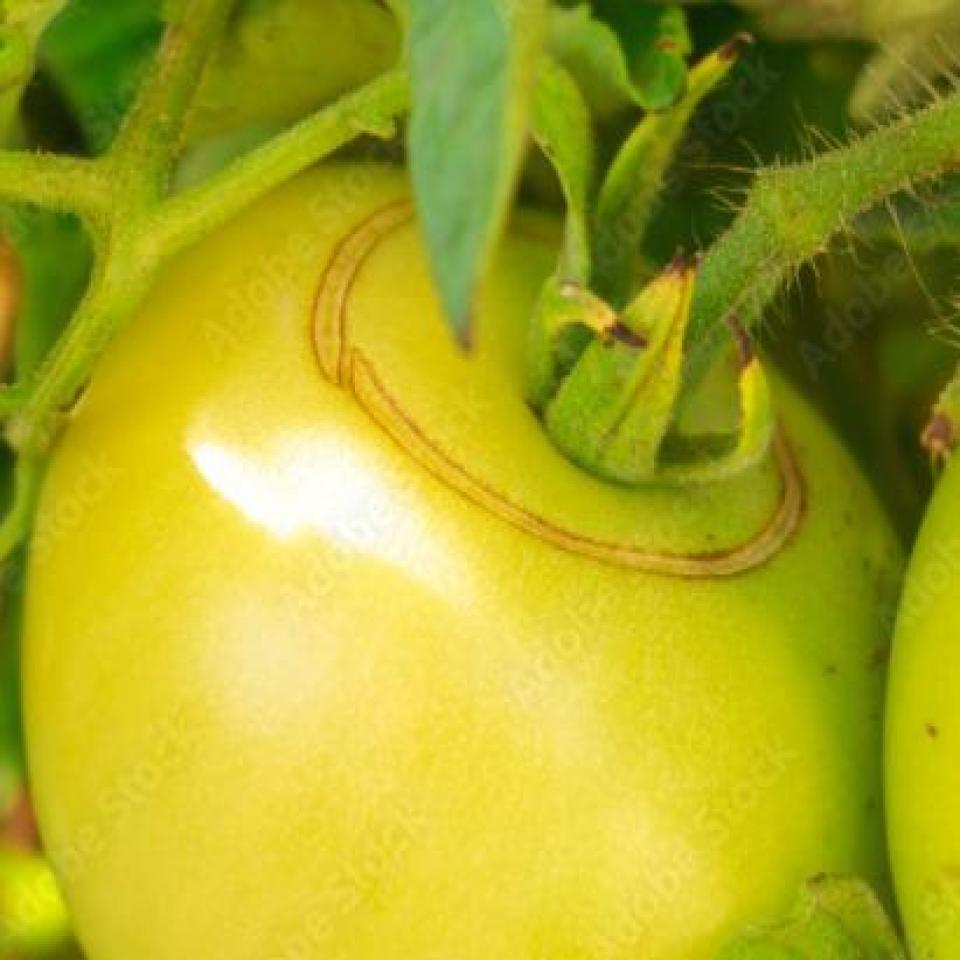Cracking: (300, 171, 824, 602)
